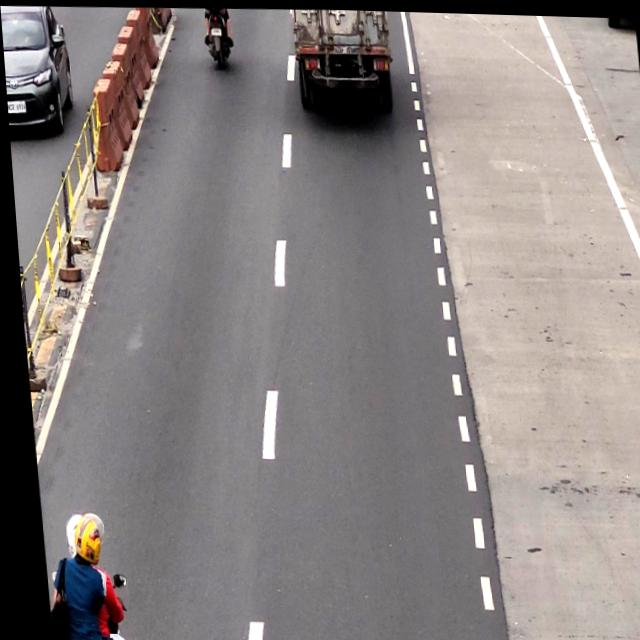Motorcycle: (33, 510, 112, 640)
Truck: (292, 7, 397, 108)
